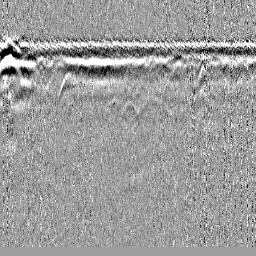cavity: (119, 99, 140, 129)
